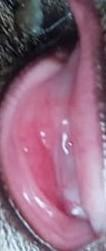eye_membrane: (1, 0, 105, 251)
